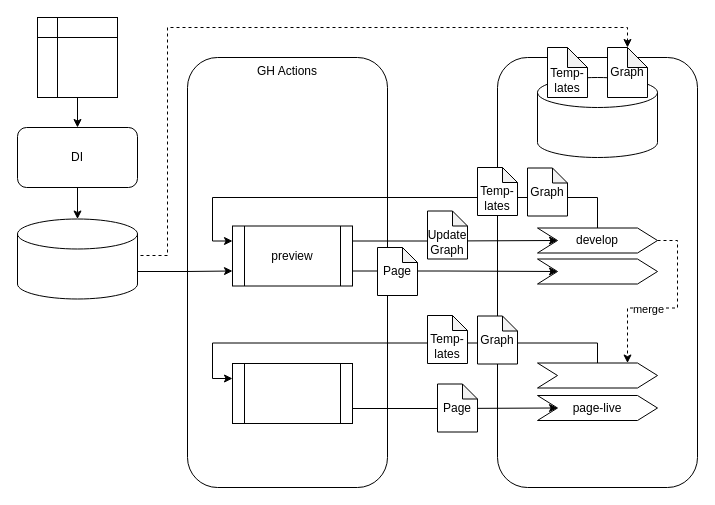
Image size: 715x505. Some labels were removed from this diagram. Each missing label, with the centre of its shape:
"aksw.eccenca.dev" goes at (77,258).
"build" goes at (292,393).
"gh:AKSW/ leipzig.dataweek.de" goes at (597,117).
"Google Docs" goes at (77,57).
"main" goes at (597,375).
"page-staging" goes at (597,271).
